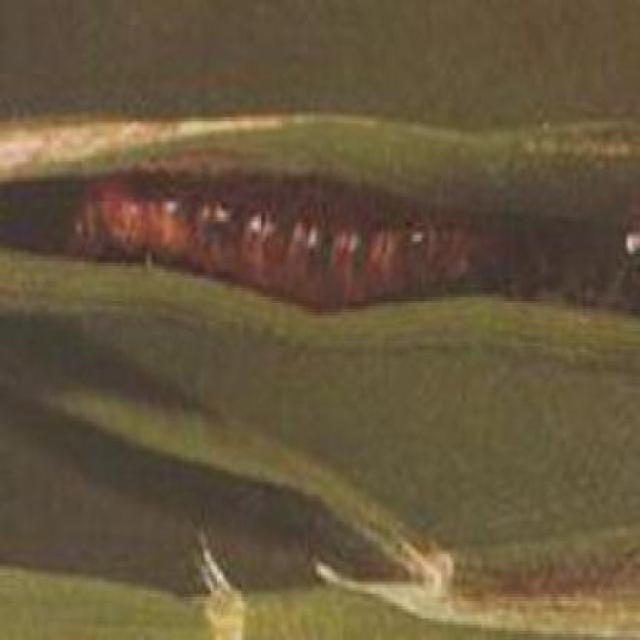leaf-folder: (93, 127, 545, 330)
